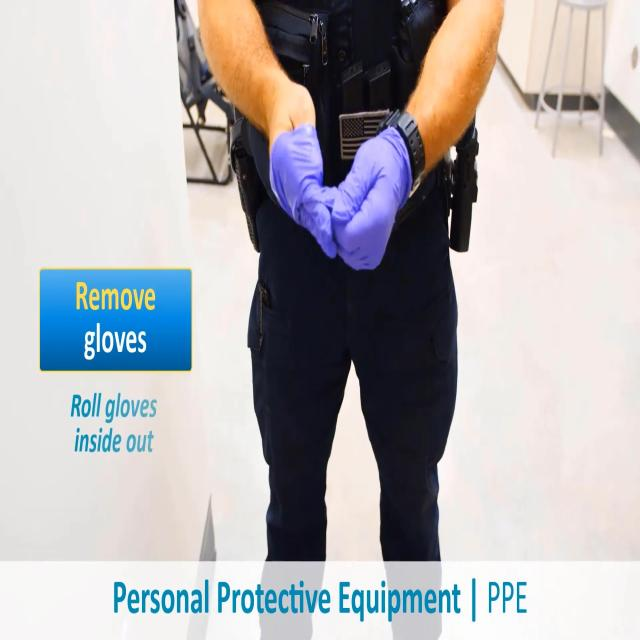Gloves: (253, 90, 342, 286), (334, 98, 415, 292)
